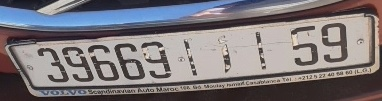3: (33, 47, 72, 85)
5: (289, 23, 322, 67)
6: (88, 42, 122, 83), (112, 41, 142, 82)
9: (140, 40, 175, 82), (63, 46, 95, 84), (322, 20, 349, 63)
a: (208, 33, 245, 78)
